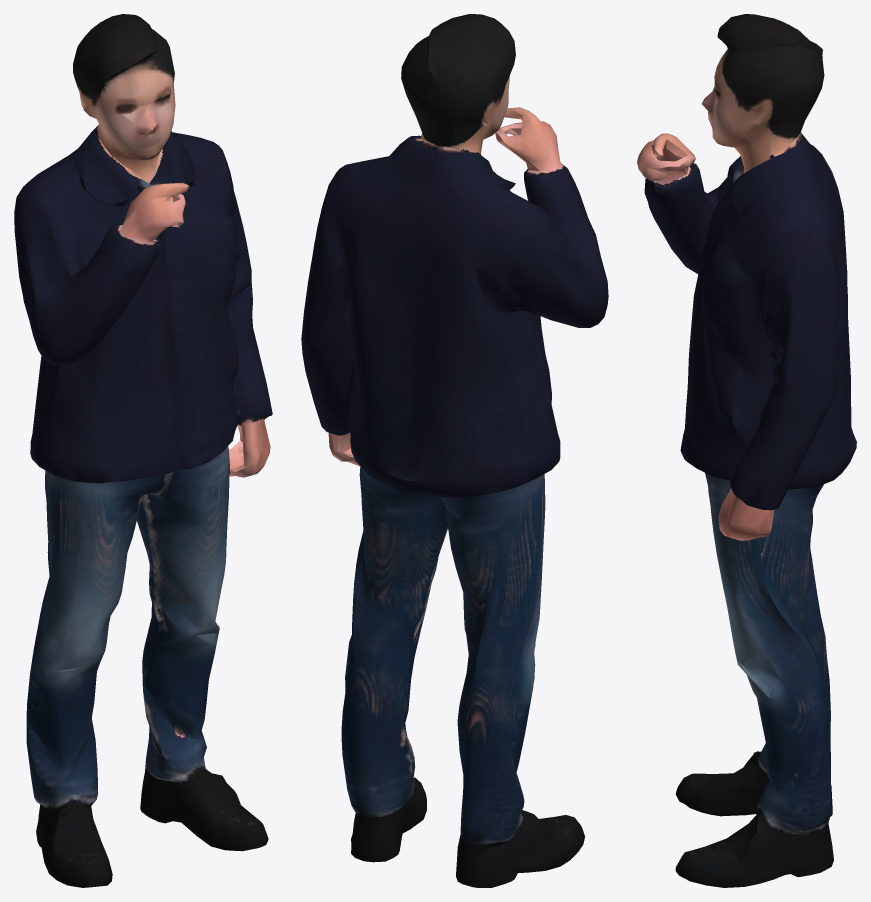
Rendered from npc_smoker.glb.
3 renders of one model, left to right at view 1: azimuth 30°, elevation 25°; view 2: azimuth 150°, elevation 25°; view 3: azimuth 270°, elevation 25°, orthographic.
Parts seen in each view (by area): view 1: npc_smoker; view 2: npc_smoker; view 3: npc_smoker.
Boxes of the visible parts, x1,y1,x2,y2 form: npc_smoker: (14, 14, 272, 887); npc_smoker: (301, 14, 608, 887); npc_smoker: (637, 14, 856, 887).
Size of the model in its own units: 0.5598 by 1.72 by 0.4195.
Materials: 1 (1 with a texture image).
